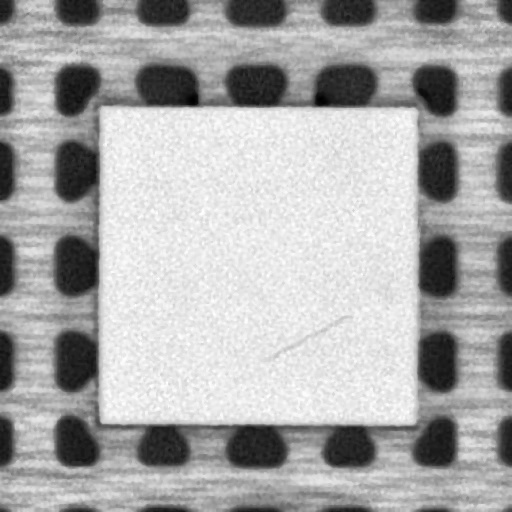DIE_CRACK: (267, 313, 347, 358)
